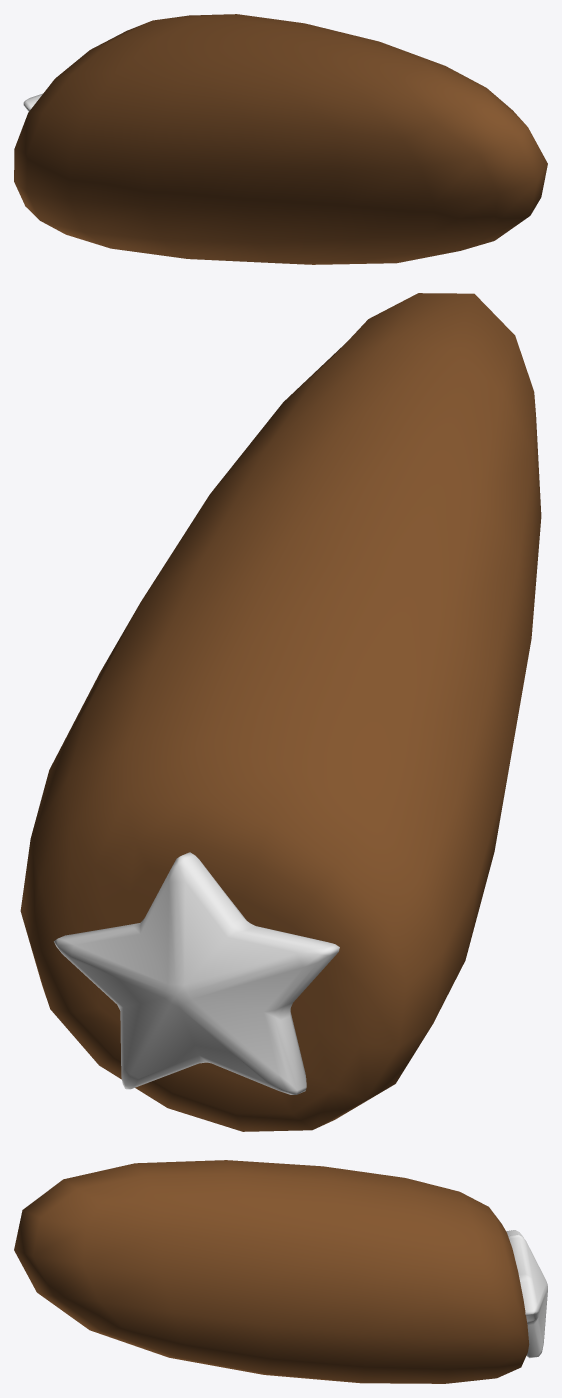
Rendered from DEFLeftLegBear.fbx.
3 renders of one model, top to bottom at view 1: azimuth 30°, elevation 25°; view 2: azimuth 150°, elevation 25°; view 3: azimuth 270°, elevation 25°, orthographic. The views are drawn at different scales.
Parts seen in each view (by area): view 1: LeftLeg; view 2: LeftLeg, star.001; view 3: LeftLeg, star.001.
Boxes of the visible parts, x1,y1,x2,y2 form: LeftLeg: (14, 14, 547, 264); LeftLeg: (20, 293, 541, 1131); star.001: (54, 852, 339, 1094); LeftLeg: (14, 1160, 529, 1383); star.001: (506, 1230, 547, 1358).
Bounding box in the file's own units: 62.69 × 58.4 × 117.
